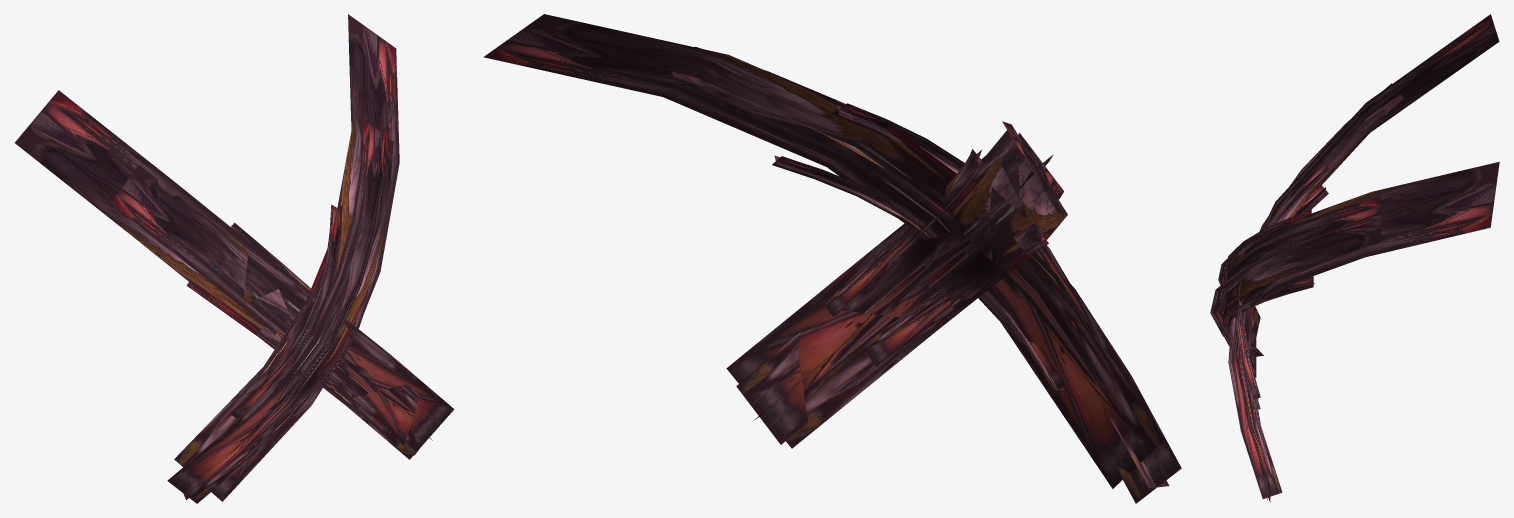
3 views of the same model, side by side, from view 1: azimuth 30°, elevation 25°; view 2: azimuth 150°, elevation 25°; view 3: azimuth 270°, elevation 25° (orthographic). The views are drawn at different scales.
Visible parts, largest first — view 1: 02_1, 01_1; view 2: 02_1, 01_1; view 3: 01_1, 02_1.
Part boxes in pixels (<box>): 02_1: <box>15,14,454,501</box>; 01_1: <box>110,119,432,503</box>; 02_1: <box>483,14,1164,488</box>; 01_1: <box>672,46,1181,503</box>; 01_1: <box>1210,83,1403,502</box>; 02_1: <box>1228,14,1499,500</box>.
Size of the model in its own units: 1.18 by 1.05 by 0.7521.
Materials: 1 (1 with a texture image).
